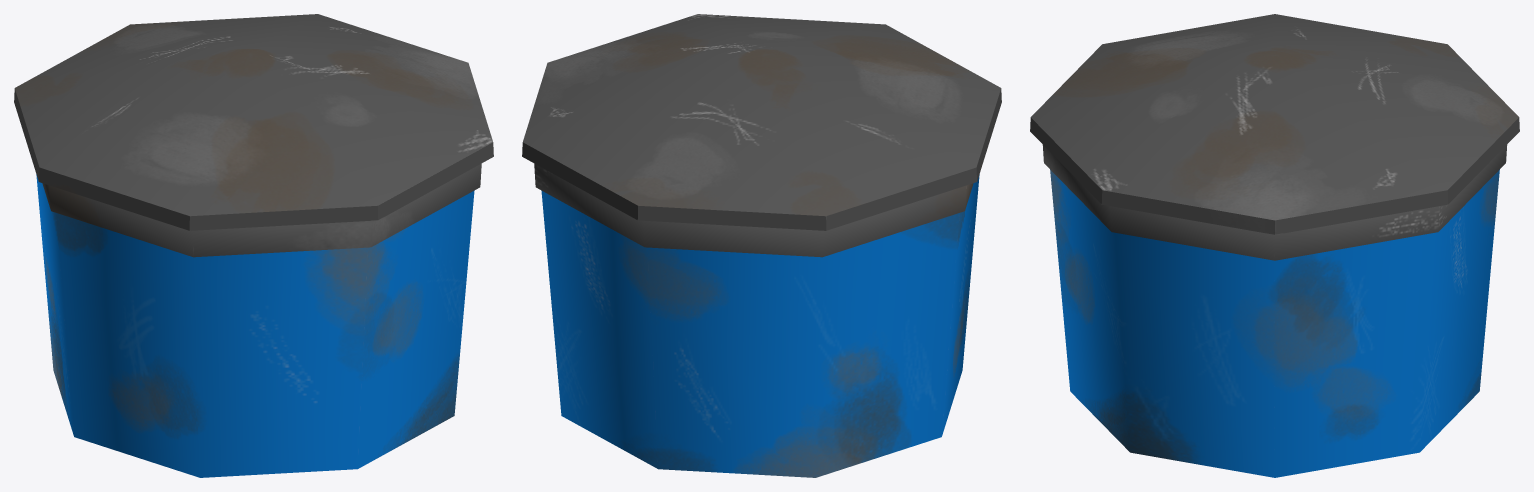
Rendered from cont_pequeno_.fbx.
3 views of the same model, side by side, from view 1: azimuth 30°, elevation 25°; view 2: azimuth 150°, elevation 25°; view 3: azimuth 270°, elevation 25° (orthographic).
Visible parts, largest first — view 1: contenedor_pequeno_term; view 2: contenedor_pequeno_term; view 3: contenedor_pequeno_term.
Part boxes in pixels (x1,y1,x2,y2): contenedor_pequeno_term: (14,14,493,477); contenedor_pequeno_term: (522,14,1001,477); contenedor_pequeno_term: (1030,14,1519,477).
Bounding box in the file's own units: 164 × 124 × 164.
Materials: 1 (1 with a texture image).
